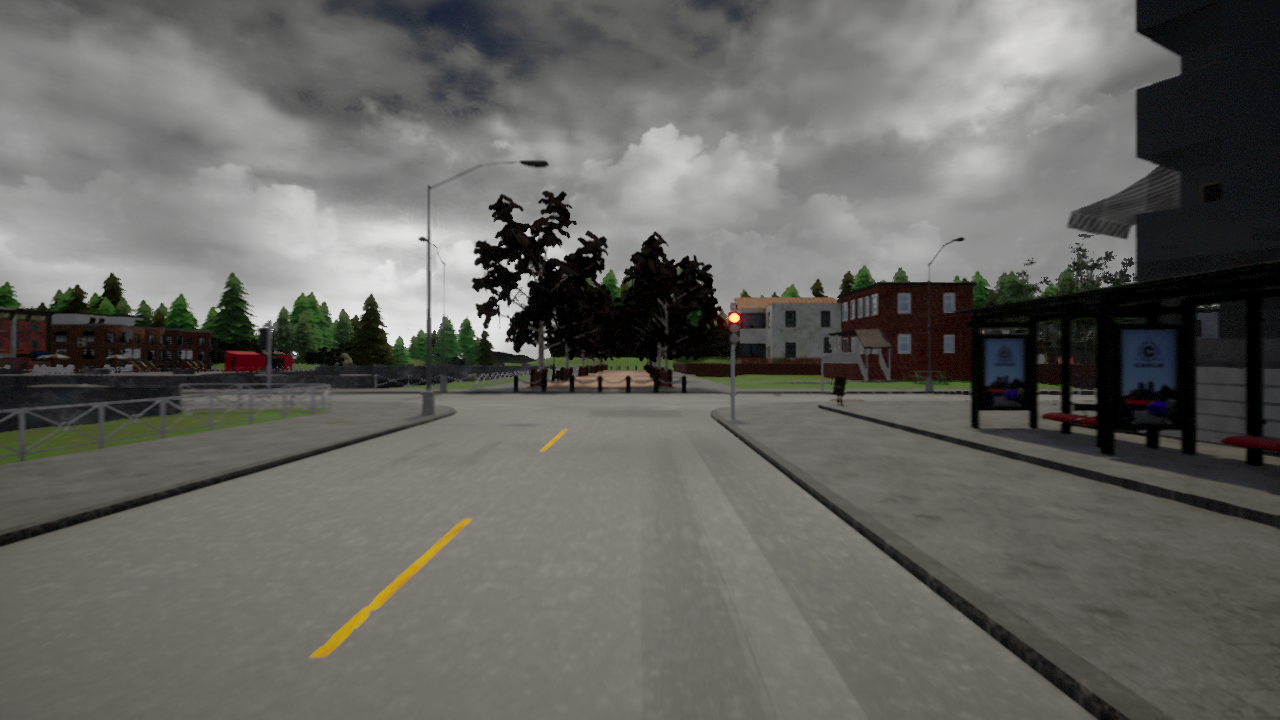red: (727, 311, 741, 346)
